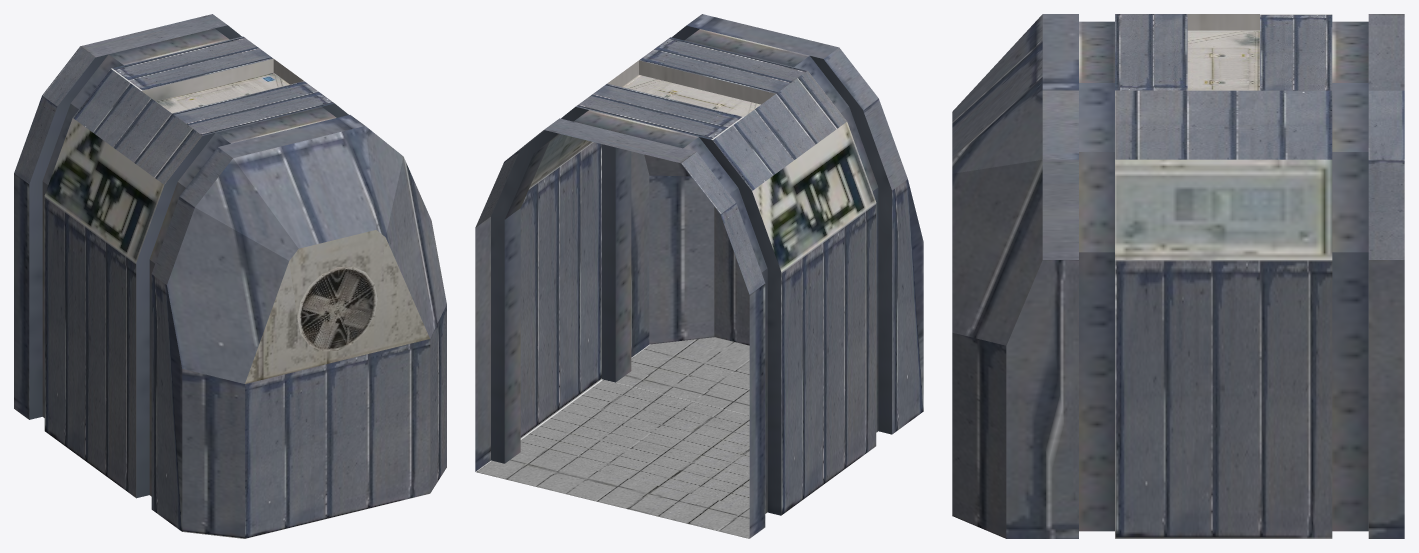
The model's file is end_hallway.fbx.
3 renders of one model, left to right at view 1: azimuth 30°, elevation 25°; view 2: azimuth 150°, elevation 25°; view 3: azimuth 270°, elevation 25°, orthographic. The views are drawn at different scales.
Parts seen in each view (by area): view 1: Plane; view 2: Plane; view 3: Plane.
Part boxes in pixels (x1,y1,x2,y2): Plane: (14, 14, 446, 538); Plane: (475, 14, 923, 538); Plane: (952, 14, 1404, 538).
Size of the model in its own units: 200 by 250 by 250.
